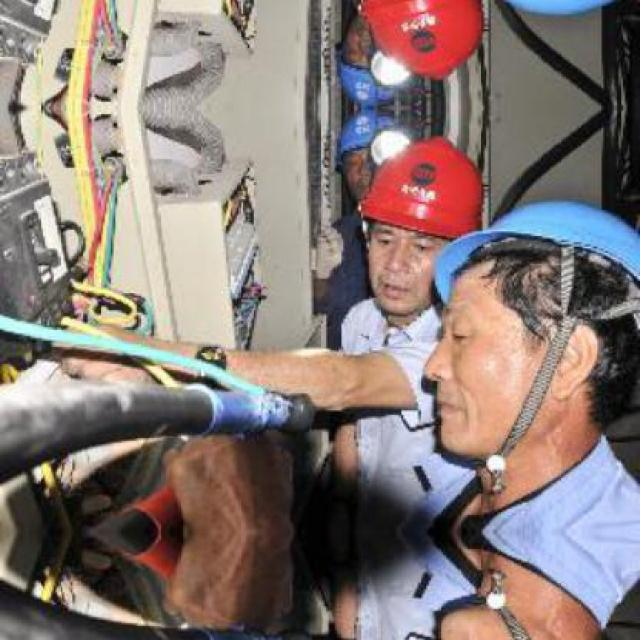helmet: (400, 184, 628, 491), (348, 131, 504, 339), (398, 572, 630, 637), (348, 0, 506, 85), (332, 112, 378, 190), (332, 26, 378, 104)
